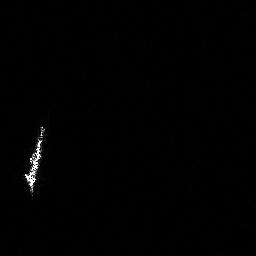ship: (21, 123, 48, 198)
